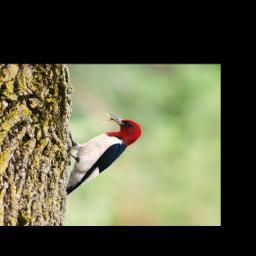Woodpecker: (66, 114, 143, 194)
